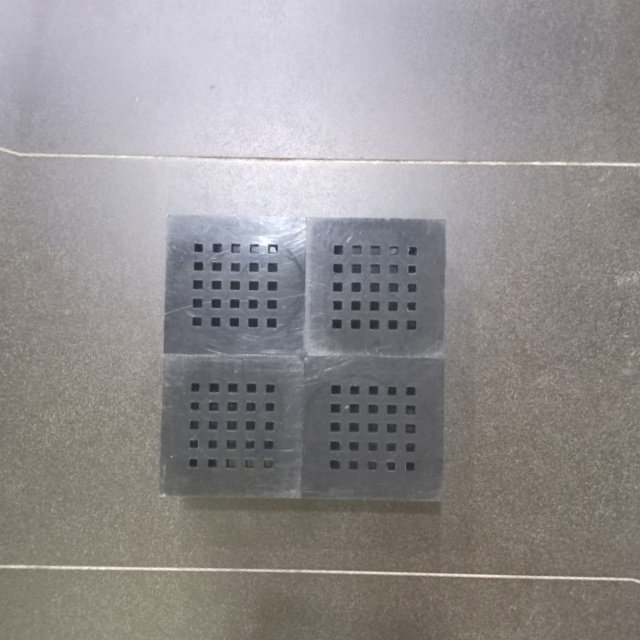pallet: (153, 209, 453, 511)
